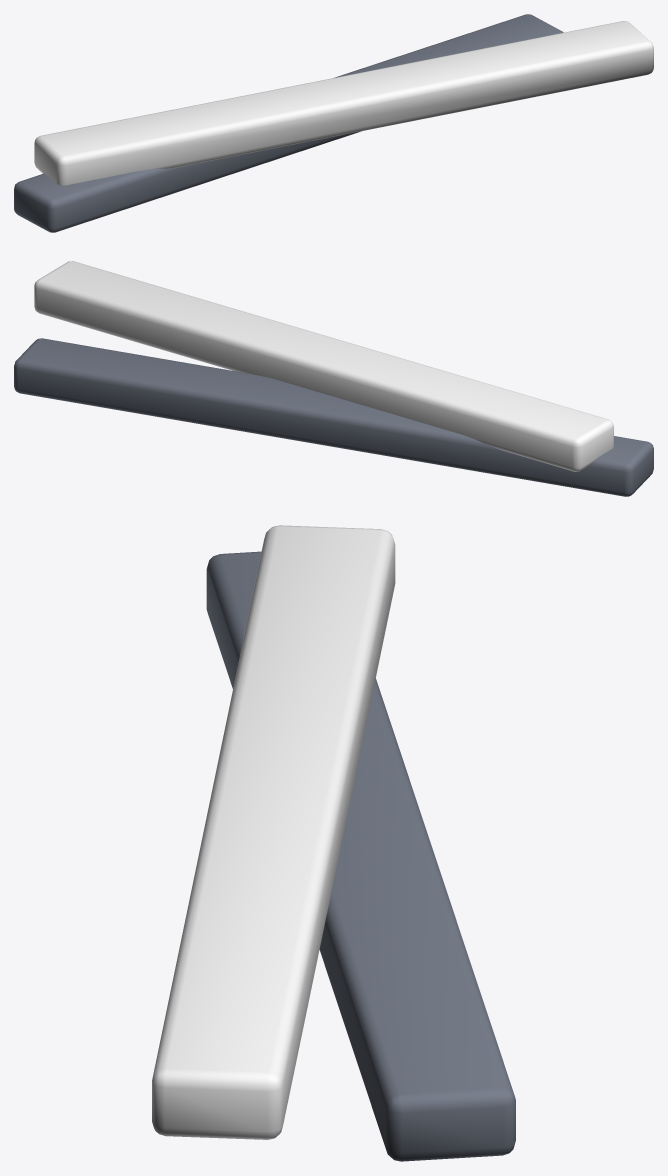
Rendered from metal-bar.obj.
3 renders of one model, top to bottom at view 1: azimuth 30°, elevation 25°; view 2: azimuth 150°, elevation 25°; view 3: azimuth 270°, elevation 25°, orthographic. The views are drawn at different scales.
Parts seen in each view (by area): view 1: metal-bar; view 2: metal-bar; view 3: metal-bar.
Boxes of the visible parts, x1,y1,x2,y2 form: metal-bar: (14, 14, 653, 232); metal-bar: (14, 261, 653, 496); metal-bar: (152, 525, 515, 1161).
Size of the model in its own units: 0.9518 by 0.09 by 0.249.
